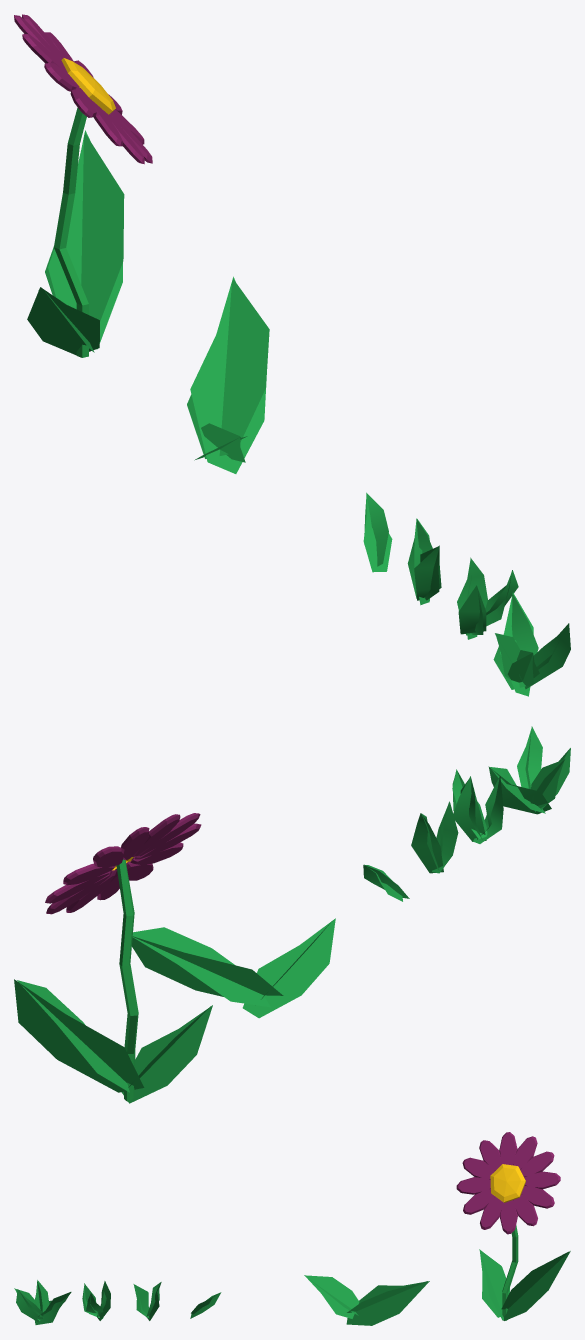
The model's file is TestEnvironment.fbx.
3 views of the same model, one above another, from view 1: azimuth 30°, elevation 25°; view 2: azimuth 150°, elevation 25°; view 3: azimuth 270°, elevation 25° (orthographic). The views are drawn at different scales.
Parts seen in each view (by area): view 1: Flower, FlowerLeave02.001, Grass04, Grass03, Grass02, Grass01; view 2: Flower, FlowerLeave02.001, Grass04, Grass03, Grass02, Grass01; view 3: Flower, FlowerLeave02.001, Grass04, Grass03, Grass02, Grass01.
Boxes of the visible parts, x1=… form: Flower: x1=14, y1=14, x2=152, y2=357; FlowerLeave02.001: x1=187, y1=276, x2=269, y2=473; Grass04: x1=493, y1=592, x2=570, y2=696; Grass03: x1=457, y1=557, x2=518, y2=639; Grass02: x1=407, y1=518, x2=441, y2=605; Grass01: x1=363, y1=492, x2=392, y2=572; Flower: x1=14, y1=813, x2=212, y2=1103; FlowerLeave02.001: x1=132, y1=918, x2=335, y2=1018; Grass04: x1=488, y1=726, x2=570, y2=814; Grass03: x1=452, y1=769, x2=503, y2=843; Grass02: x1=411, y1=801, x2=458, y2=873; Grass01: x1=363, y1=864, x2=409, y2=901; Flower: x1=456, y1=1132, x2=570, y2=1320; FlowerLeave02.001: x1=304, y1=1275, x2=429, y2=1325; Grass04: x1=14, y1=1280, x2=71, y2=1324; Grass03: x1=82, y1=1281, x2=110, y2=1320; Grass02: x1=133, y1=1282, x2=161, y2=1320; Grass01: x1=190, y1=1292, x2=221, y2=1318.
Size of the model in its own units: 155 by 335 by 943.
